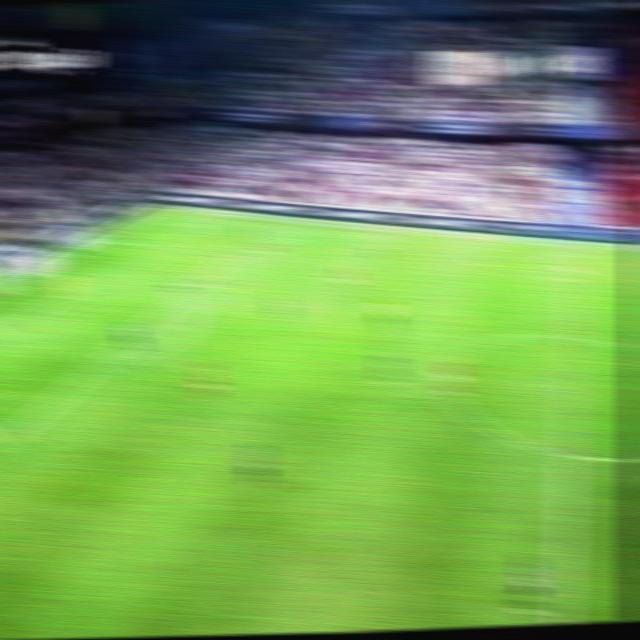bigarea_top_inner: (218, 245, 247, 263)
bigarea_top_outter: (87, 232, 116, 248)
bottom_arc_area_intersection: (84, 354, 112, 374)
corner: (143, 201, 176, 217)
halfcircle_bottom: (549, 435, 591, 471)
halfcircle_top: (554, 320, 593, 350)
midline_top_intersection: (556, 239, 597, 254)
smallarea_top_inner: (71, 270, 104, 287)
smallarea_top_outter: (27, 268, 58, 280)
top_arc_area_intersection: (168, 288, 194, 304)
